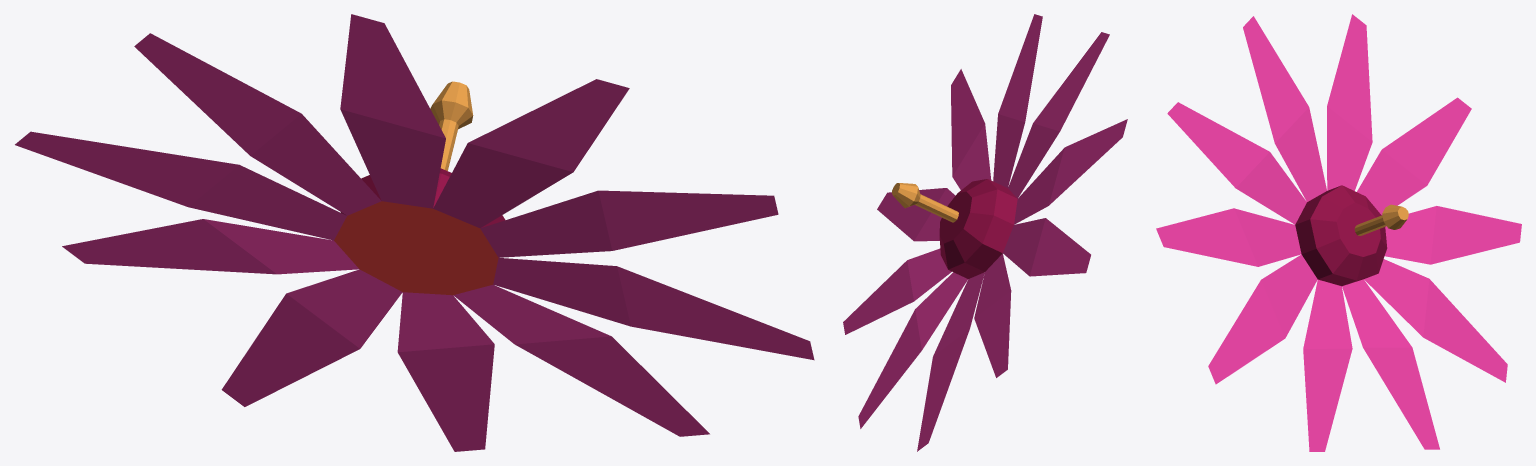
The model's file is flower.fbx.
3 views of the same model, side by side, from view 1: azimuth 30°, elevation 25°; view 2: azimuth 150°, elevation 25°; view 3: azimuth 270°, elevation 25° (orthographic). The views are drawn at different scales.
Visible parts, largest first — view 1: flower; view 2: flower; view 3: flower.
Boxes of the visible parts, x1=… form: flower: x1=15, y1=14, x2=814, y2=451; flower: x1=843, y1=14, x2=1127, y2=451; flower: x1=1156, y1=14, x2=1521, y2=451.
Size of the model in its own units: 53.24 by 54.56 by 50.41.
